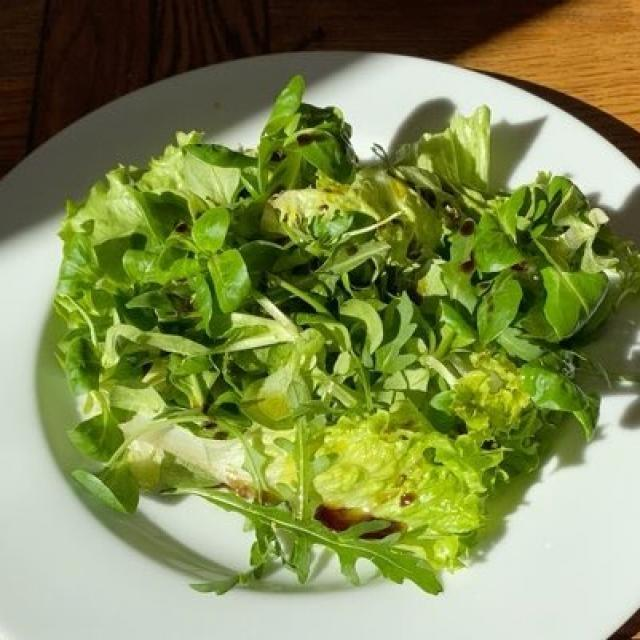salad: (57, 97, 618, 583), (225, 208, 502, 532)
